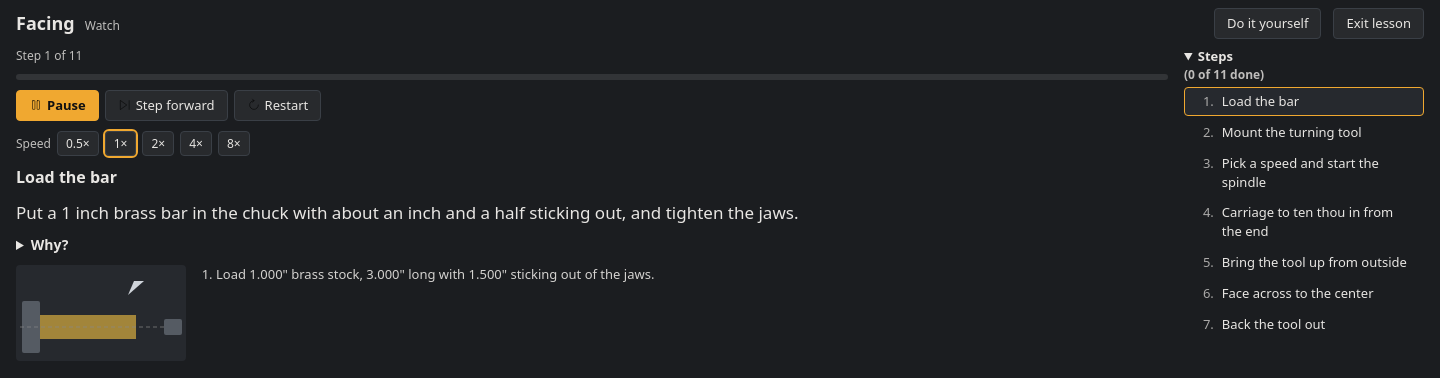
Test: LessonPanel (watch) › play/pause toggles playing and step forward advances
The width and height of the screenshot is (1440, 378).
What coordinates should you click on to do the following:
click the button with test id "lesson-play"
I would click on:
 (57, 106)
Its box is [16,90,99,121].
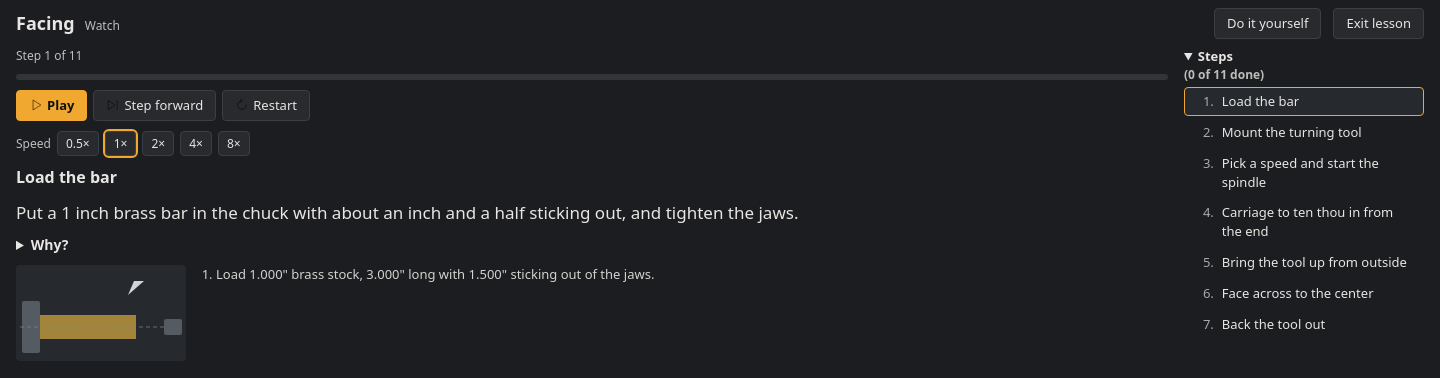
Expected: the button with test id "lesson-play" reads "Play"
What coordinates should you click on to do the following:
click the button with test id "lesson-play"
I would click on:
 (52, 106)
Its box is [16,90,87,121].
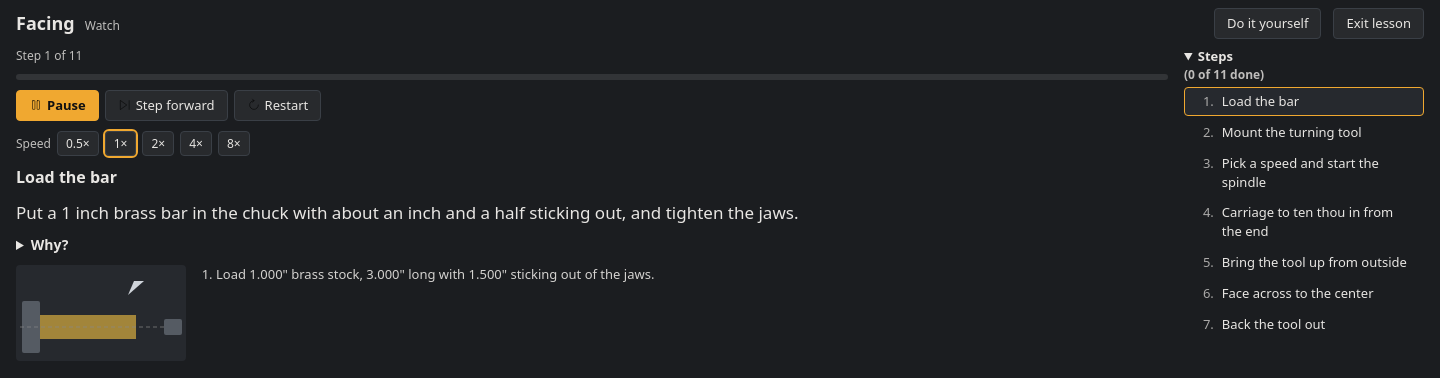
What coordinates should you click on to do the following:
click the button with test id "lesson-play"
I would click on:
 (57, 106)
Its box is [16,90,99,121].
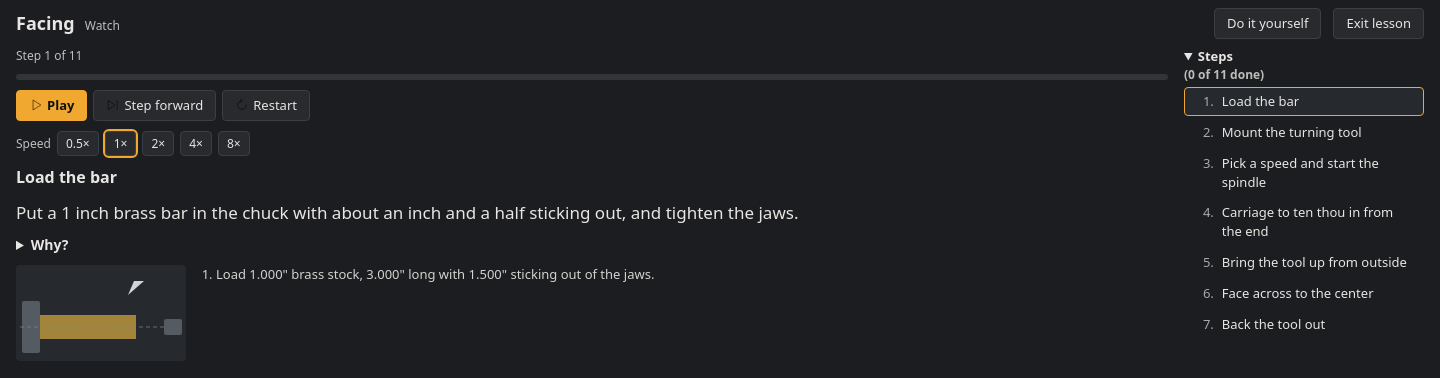
What coordinates should you click on to do the following:
click the button with test id "lesson-step"
I would click on:
 (155, 106)
Its box is [93,90,216,121].
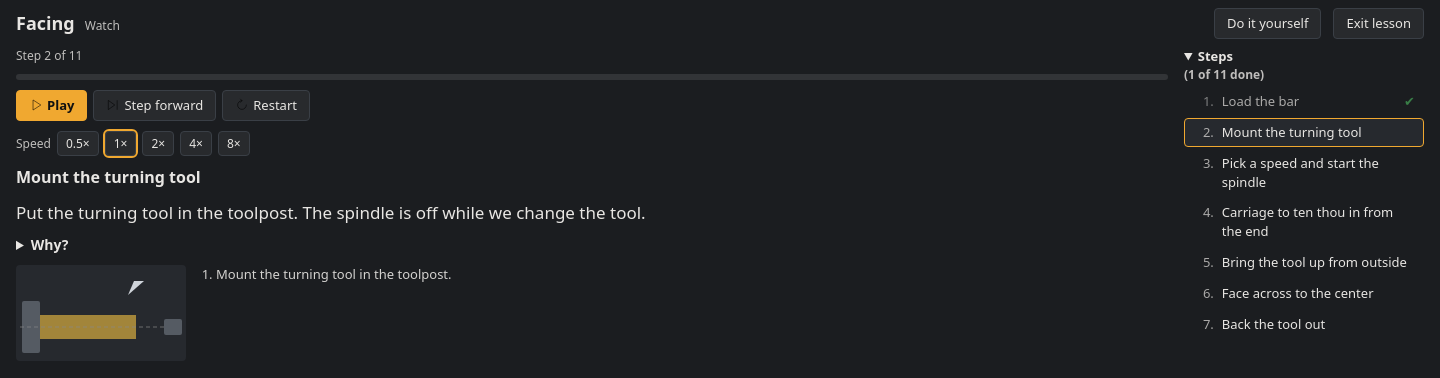
Expected: the text with test id "lesson-narration" shows "Put the turning tool in the toolpost. The spindle is off while we change the tool.", [16,201,646,224]
